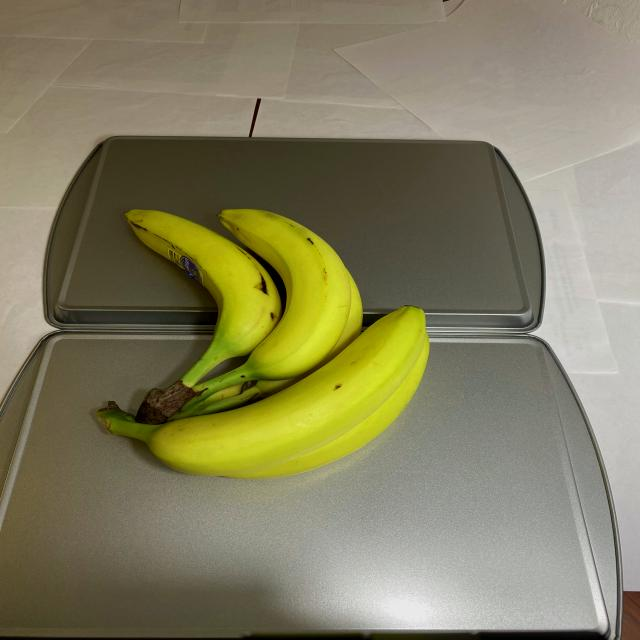banana: (110, 205, 434, 478)
